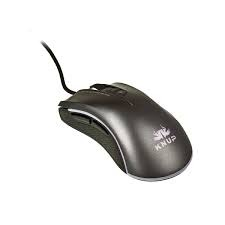mouse: (57, 78, 196, 183)
